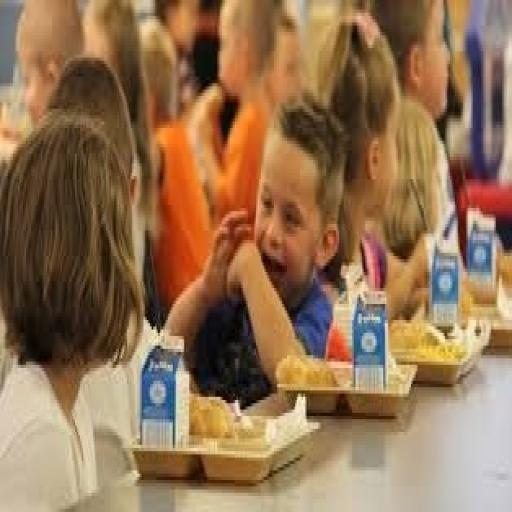eating: (163, 90, 347, 410), (0, 106, 145, 508)
